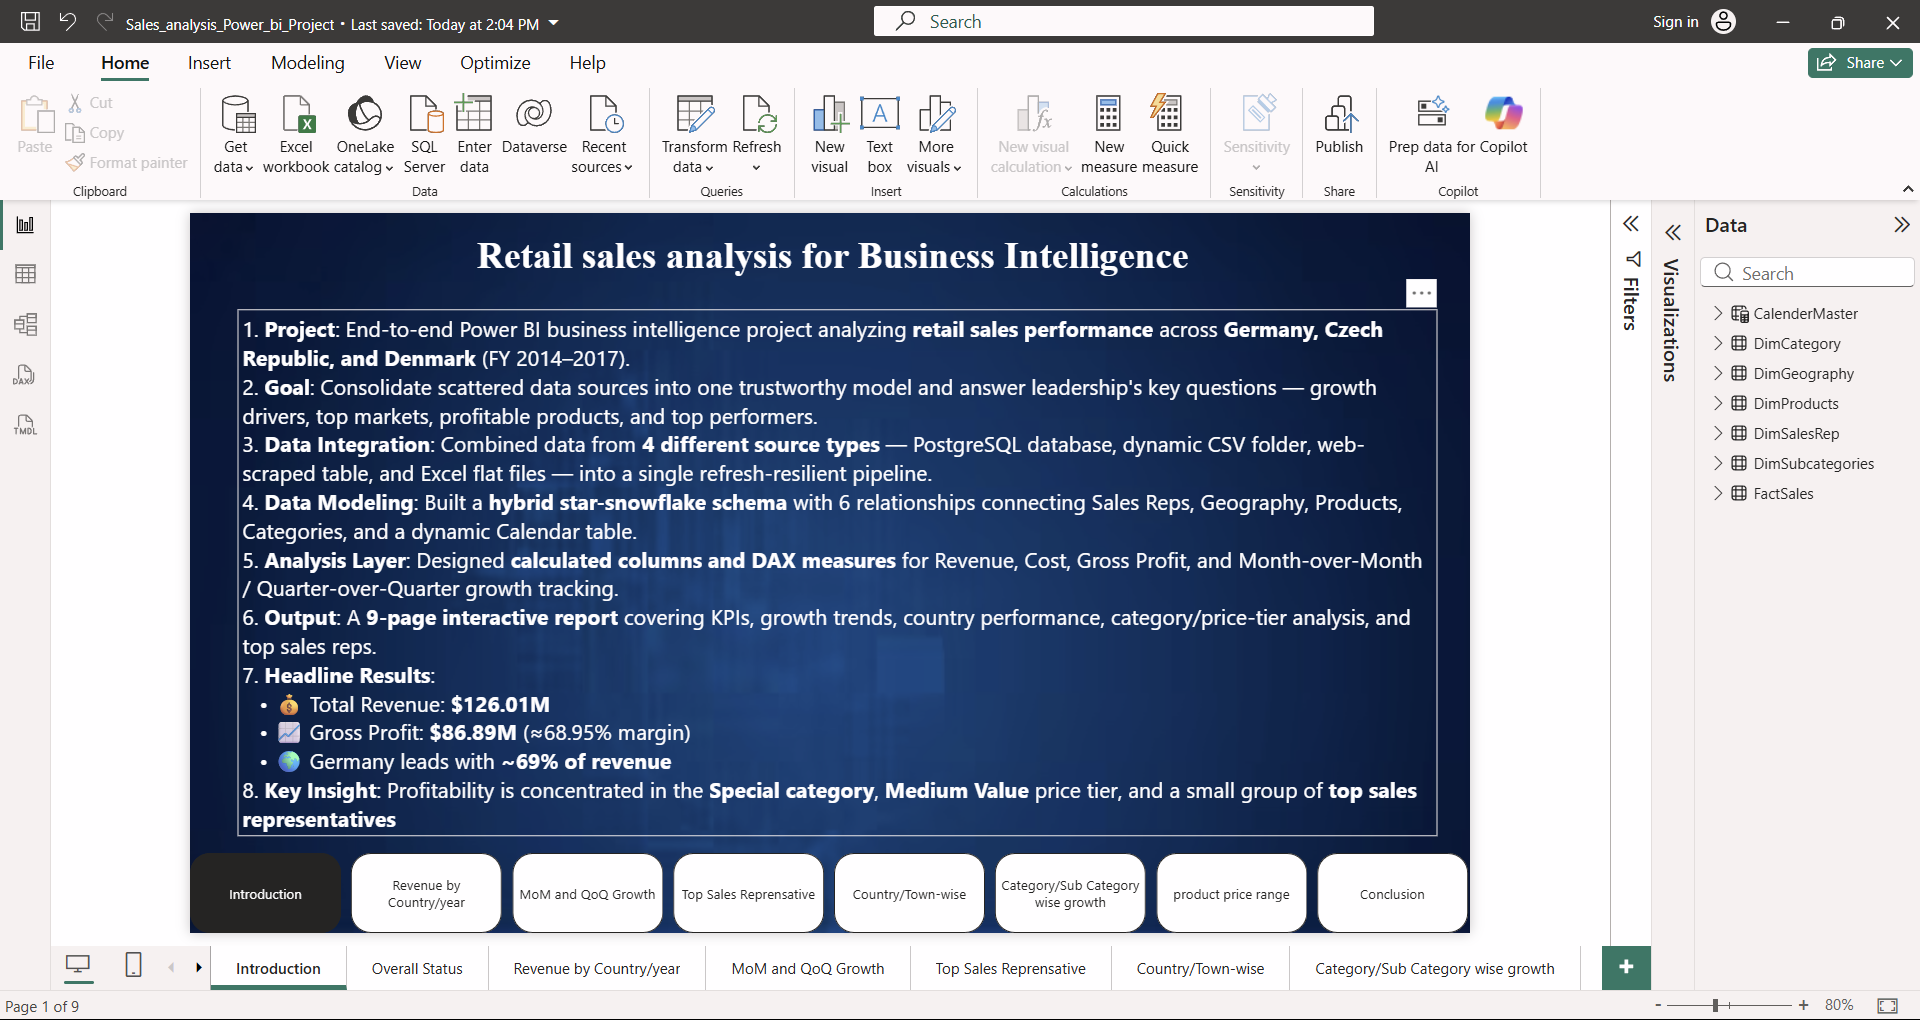

What the dashboard file says about the page in this screenshot:
{"tool":"powerbi","page":{"name":"Introduction","canvas":[1280,720],"ordinal":0},"visuals":[{"type":"textbox","box":[48,16,1200,64],"z":0},{"type":"textbox","box":[48,96,1200,528],"z":1000},{"type":"pageNavigator","box":[0,640,1280,80],"z":2000}]}

Visuals, with their boxes on the page's 1280x720 design canvas (x1, y1, x2, y2). These are canvas units, not pixel positions in the 1920x1020 screenshot, which may show the page scaled, cropped or inside an application window:
textbox: {"x1": 48, "y1": 16, "x2": 1248, "y2": 80}
textbox: {"x1": 48, "y1": 96, "x2": 1248, "y2": 624}
pageNavigator: {"x1": 0, "y1": 640, "x2": 1280, "y2": 720}
